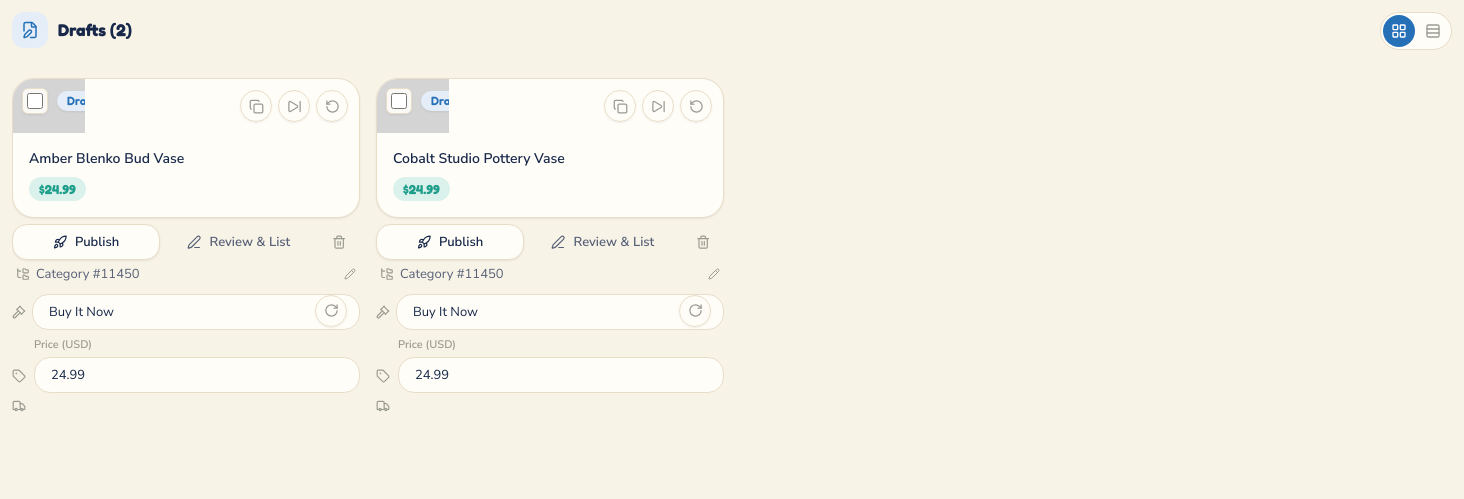
it: ticking drafts for a bulk action › ticks the lot from the bar, and unticks them the same way
Click the checkbox named "Select \"Amber Blenko Bud Vase\"": click(35, 101) [27,93,43,109]
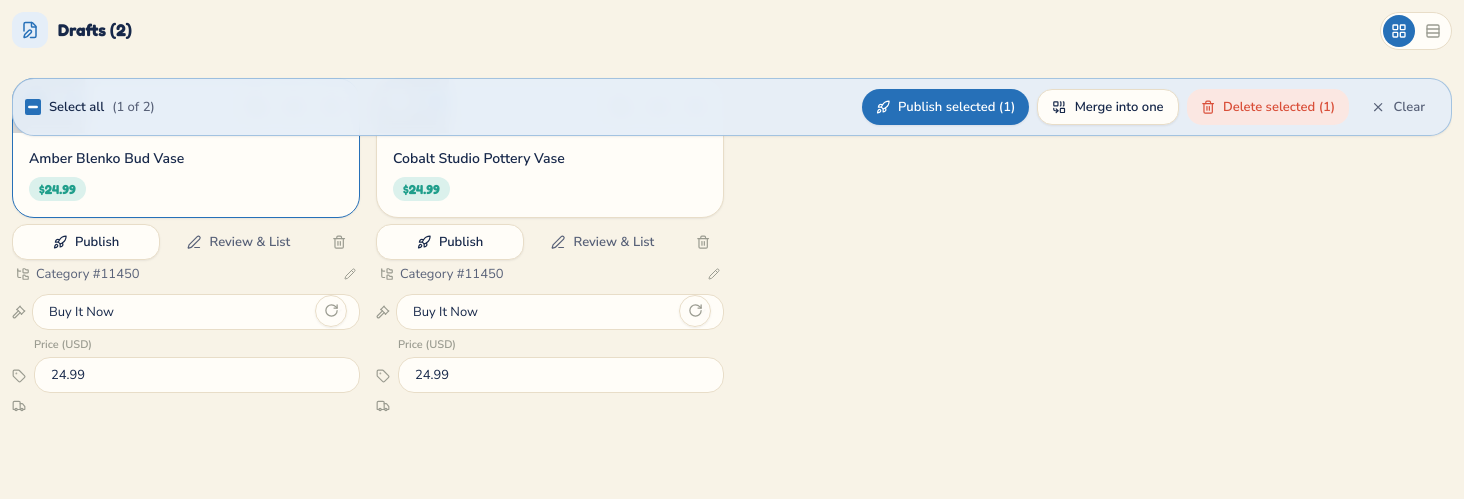
Result: the checkbox labelled "Select all (1 of 2)" is not checked
Result: the checkbox labelled "Select all (1 of 2)" is shown
Click the checkbox labelled "Select all (1 of 2)": click(33, 107) [25,99,41,115]
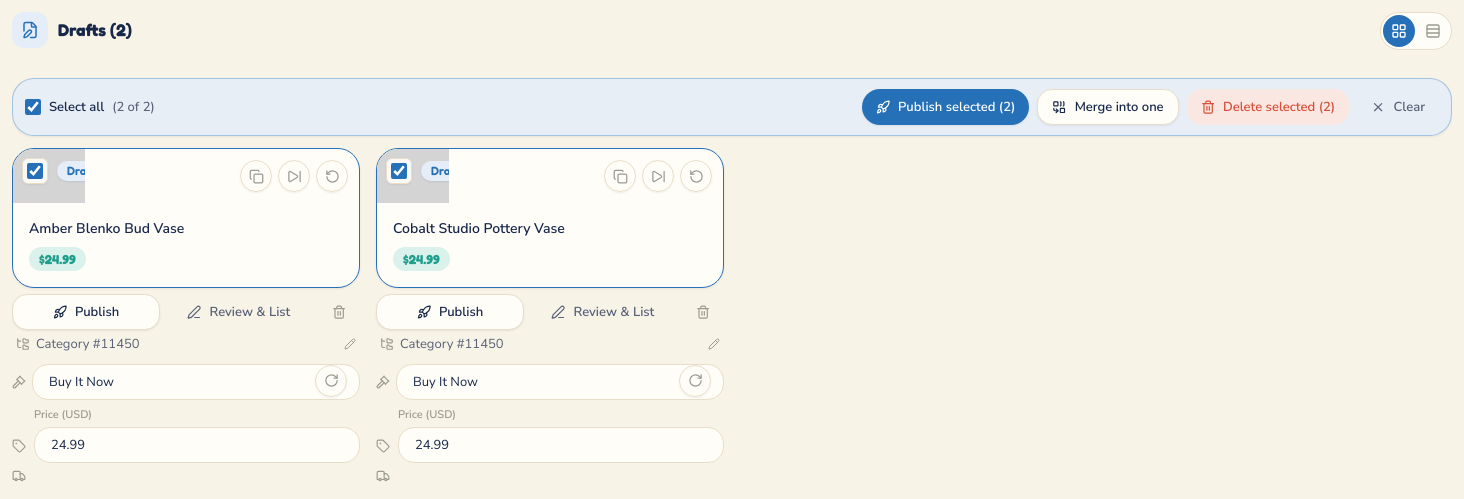
Result: the text "(2 of 2)" is shown at [112,97,155,117]
